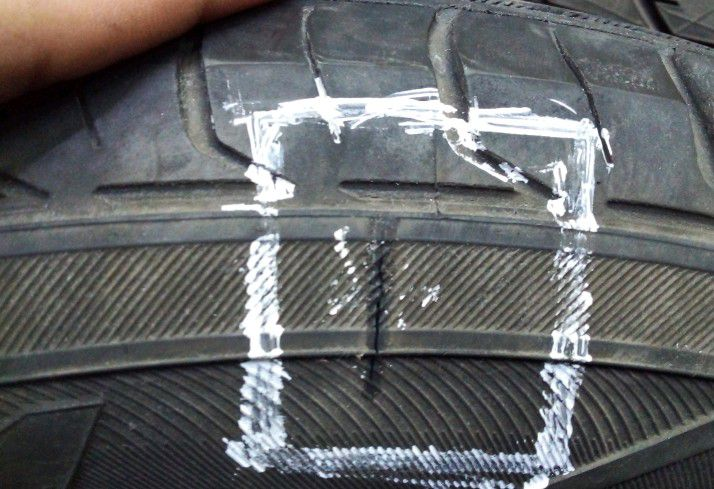cut: (368, 239, 389, 389)
